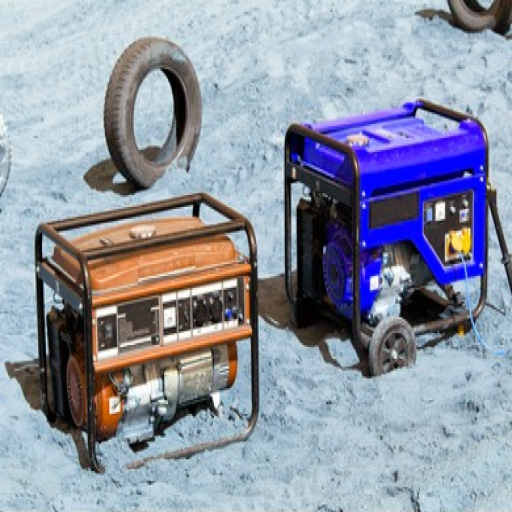portable_generator: (34, 192, 259, 472), (284, 99, 490, 354)
